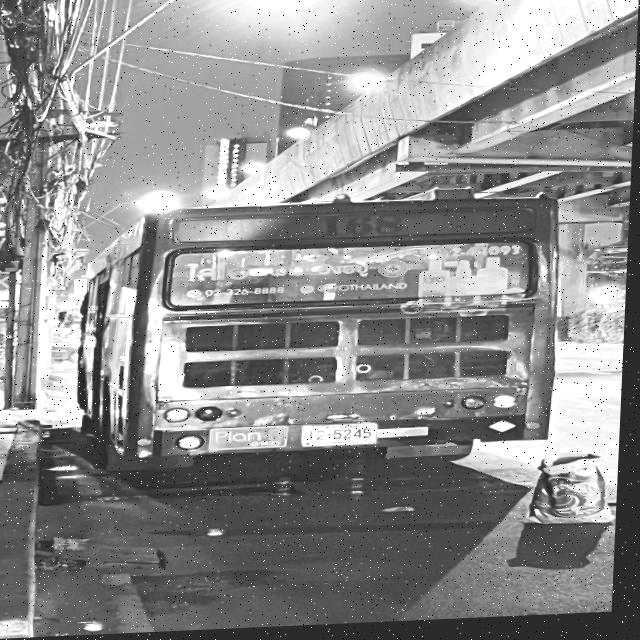BMTA-bus: (68, 187, 575, 480)
Bus Line Number: (314, 212, 415, 246)
Bus Side Number: (448, 245, 527, 263)
